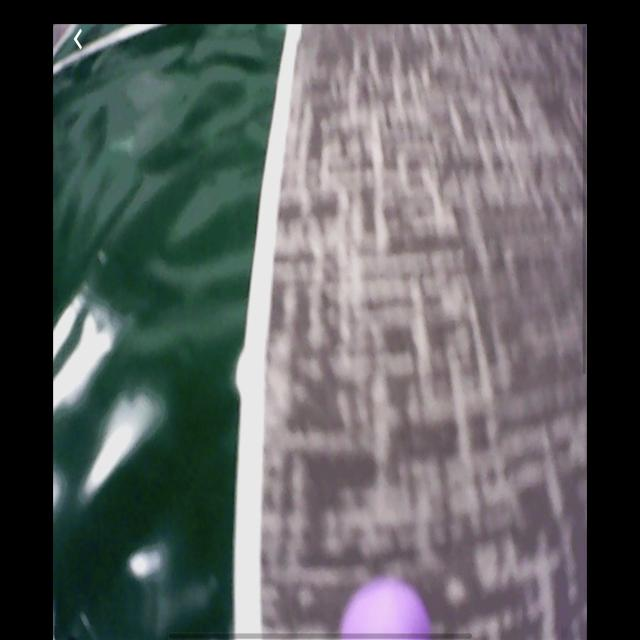ball: (343, 578, 430, 640)
